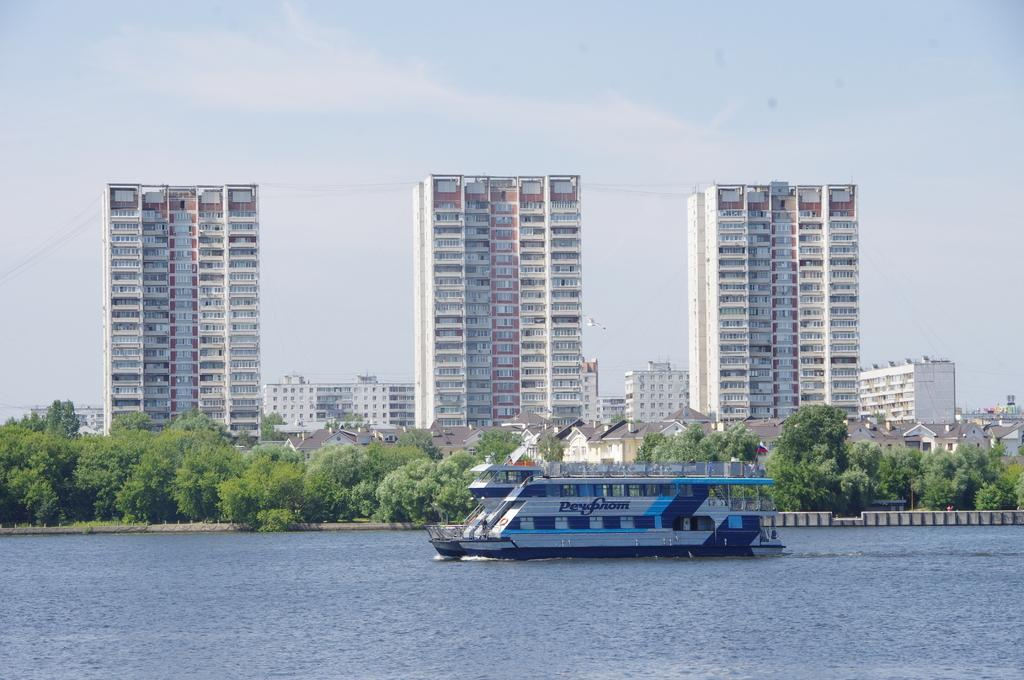PassengerShip: (429, 452, 791, 562)
